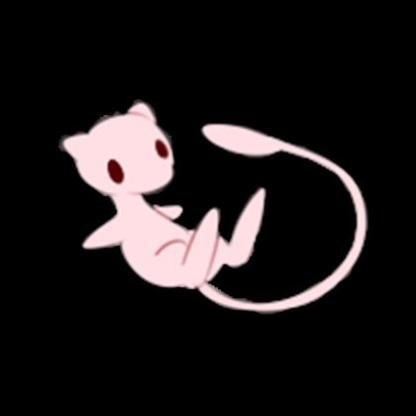Mew: (1, 14, 414, 392)
